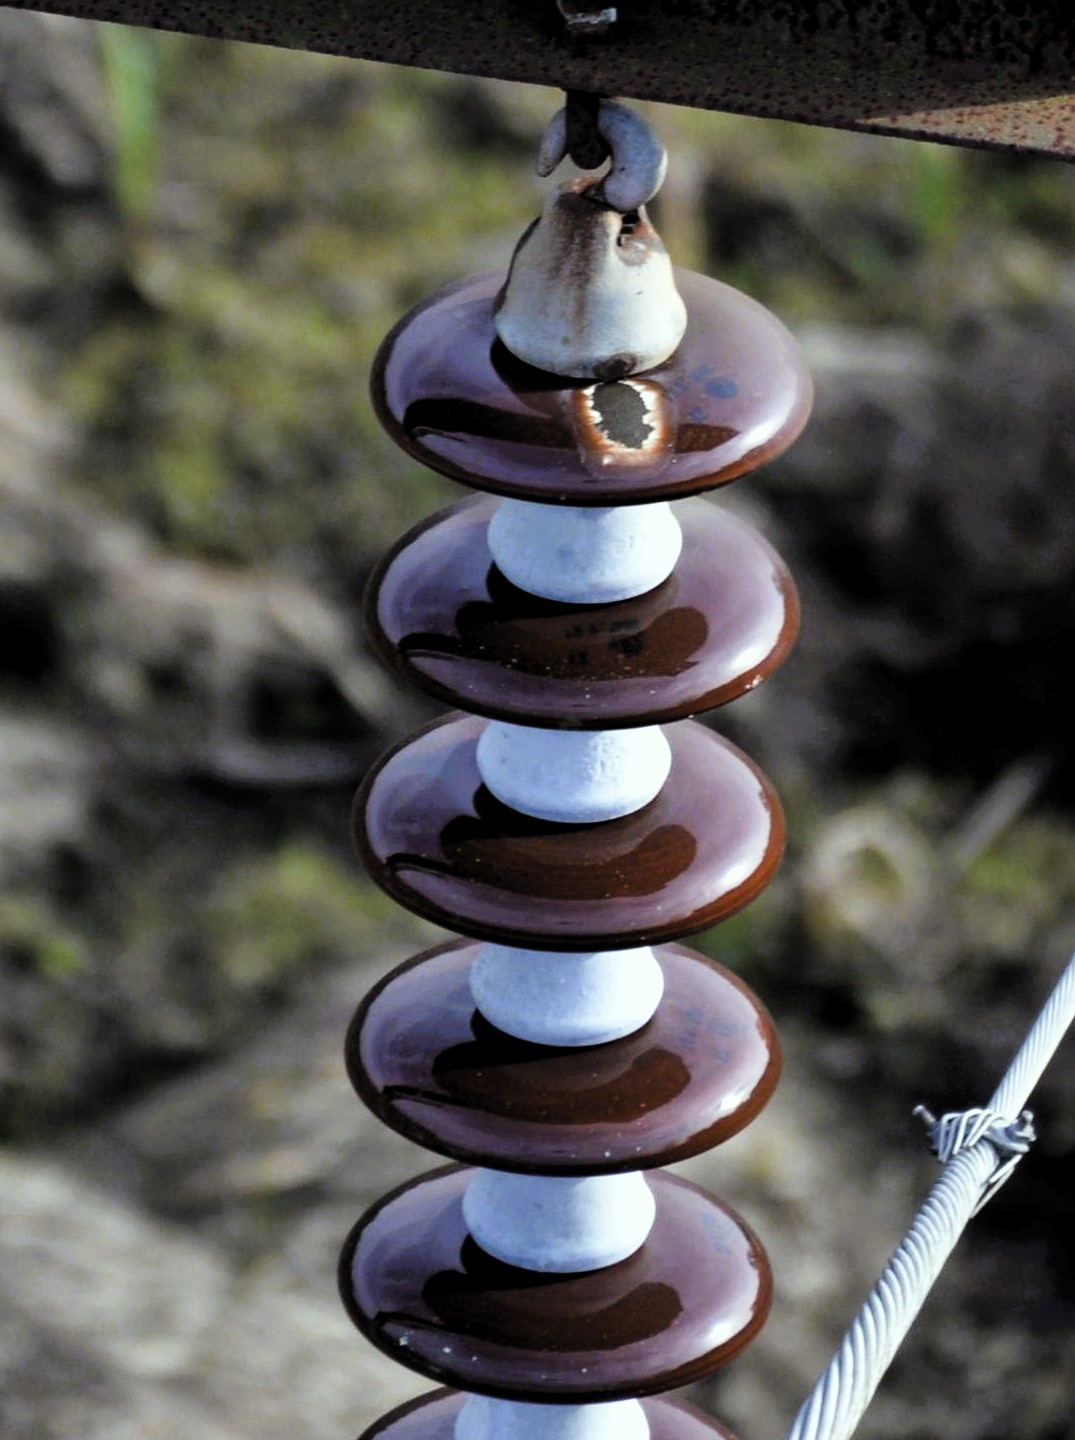Insulator flashover: (347, 230, 830, 515)
